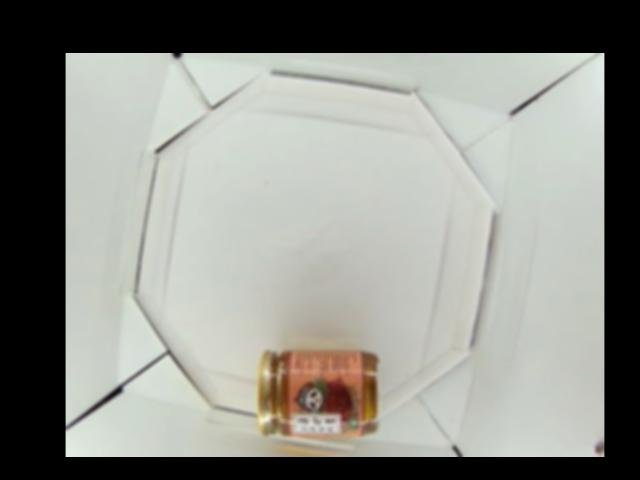Bottle: (256, 347, 379, 438)
